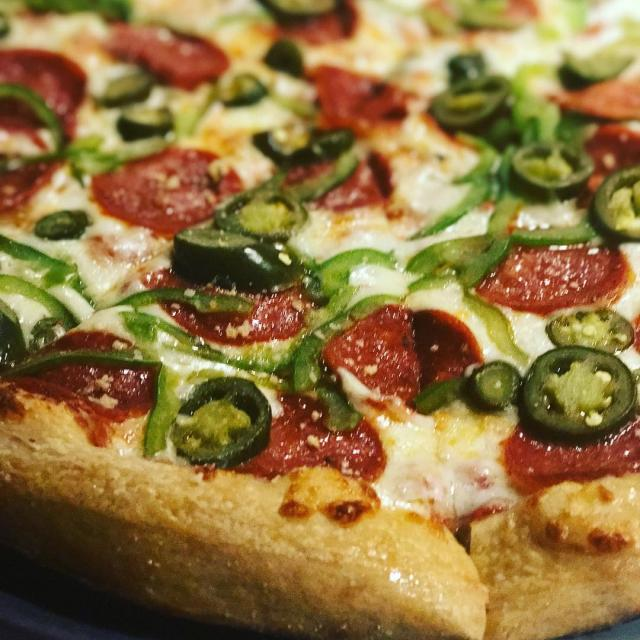pepperoni: (324, 305, 481, 401), (6, 358, 159, 447), (91, 147, 242, 237), (235, 394, 386, 481), (476, 245, 631, 316), (502, 415, 640, 494), (162, 288, 312, 346), (105, 24, 229, 90), (0, 49, 86, 134), (309, 65, 407, 133), (316, 153, 392, 211), (260, 0, 357, 44), (421, 0, 537, 34), (585, 122, 640, 192), (558, 77, 640, 120), (0, 159, 62, 213), (283, 160, 335, 190)
pizza: (0, 0, 640, 640)
